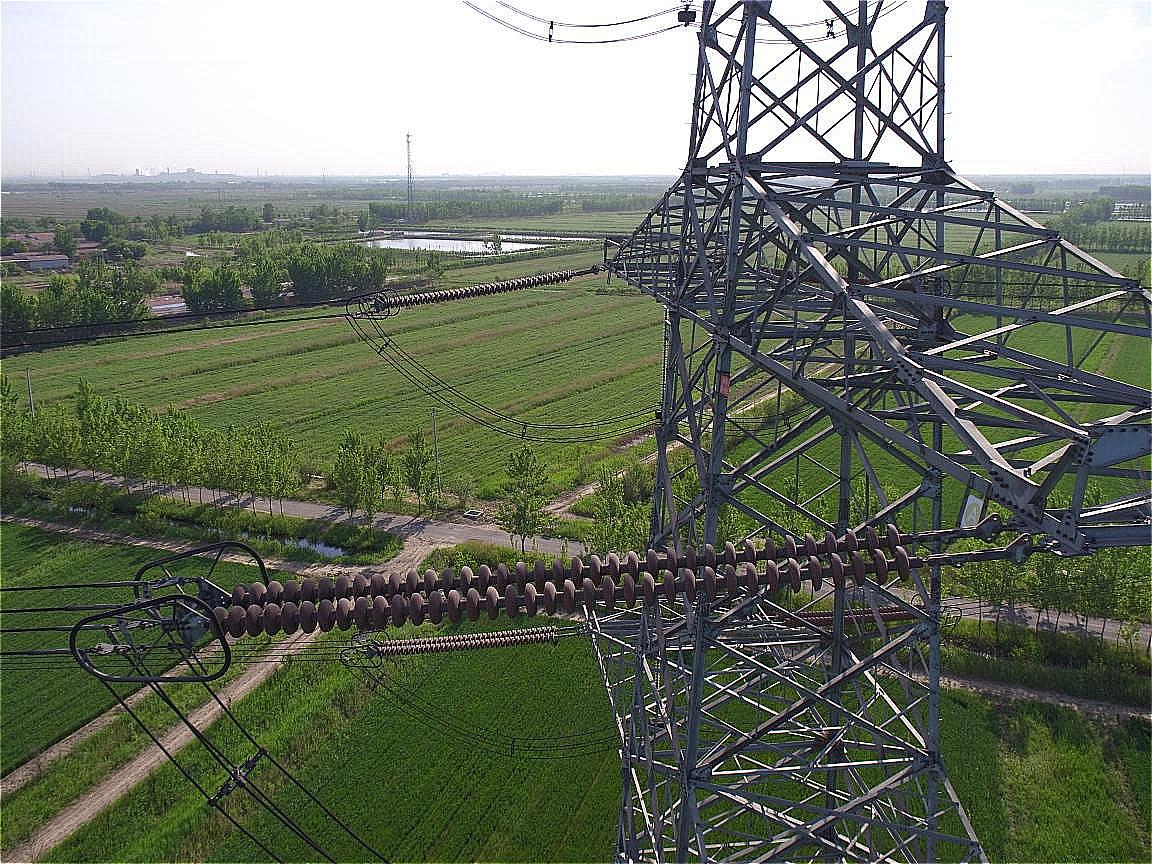insultor1: (210, 525, 913, 640)
insultor2: (391, 268, 575, 311), (379, 623, 560, 661)
